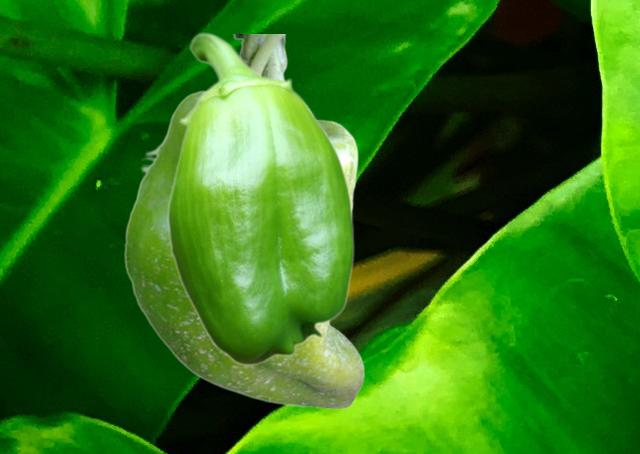bell_pepper: (123, 34, 364, 408), (166, 32, 354, 365)
